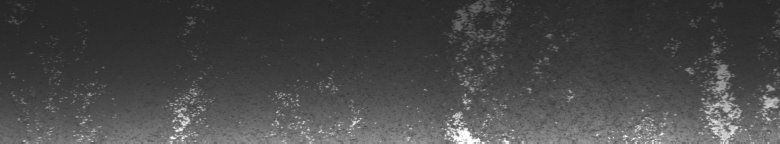kb: (635, 20, 776, 136)
